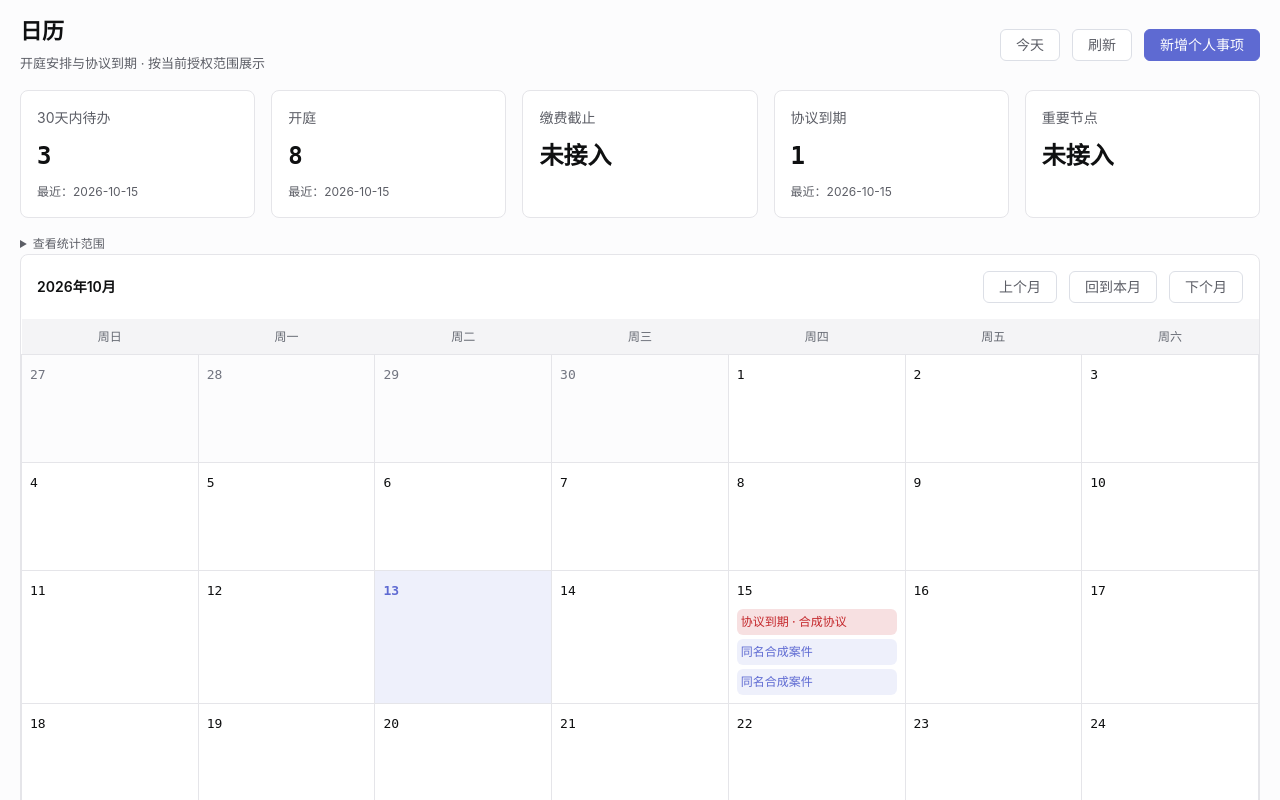
Test: CalendarPage › shows an unlinked agreement notice without guessing a case or customer destination
This screenshot has width=1280, height=800.
Click the button "协议到期 · 合成协议": point(817, 622) [737,609,896,635]
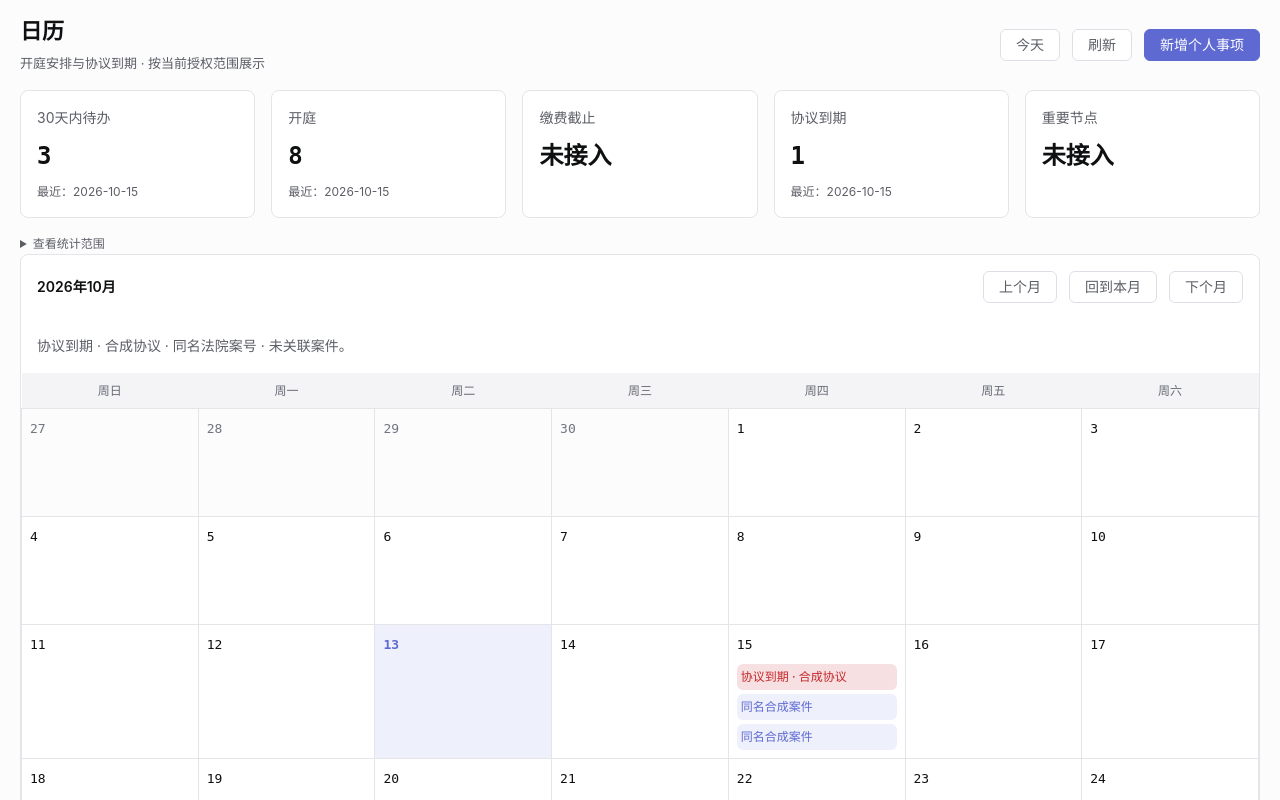
Now the text "未关联案件" is shown, box [257,336,353,354]
